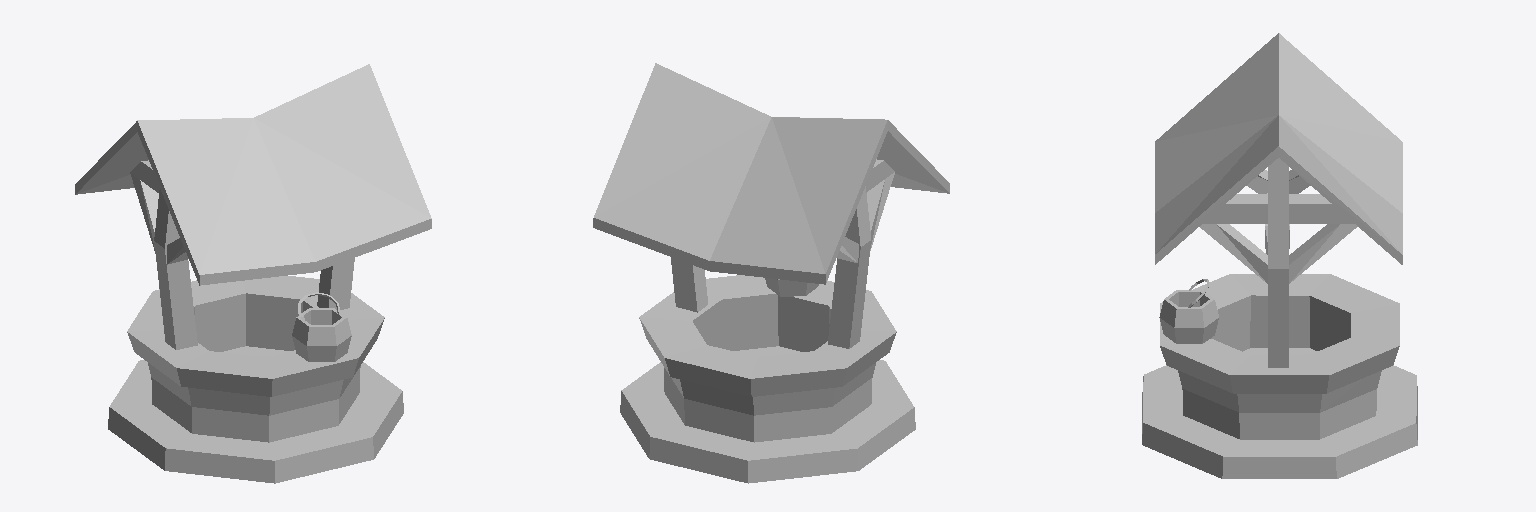
Rendered from well.obj.
3 views of the same model, side by side, from view 1: azimuth 30°, elevation 25°; view 2: azimuth 150°, elevation 25°; view 3: azimuth 270°, elevation 25° (orthographic).
Visible parts, largest first — view 1: well; view 2: well; view 3: well.
Part boxes in pixels (x1,y1,x2,y2): well: (75,64,431,483); well: (593,63,949,483); well: (1142,33,1417,478).
Bounding box in the file's own units: 4.92 × 6.48 × 4.92.